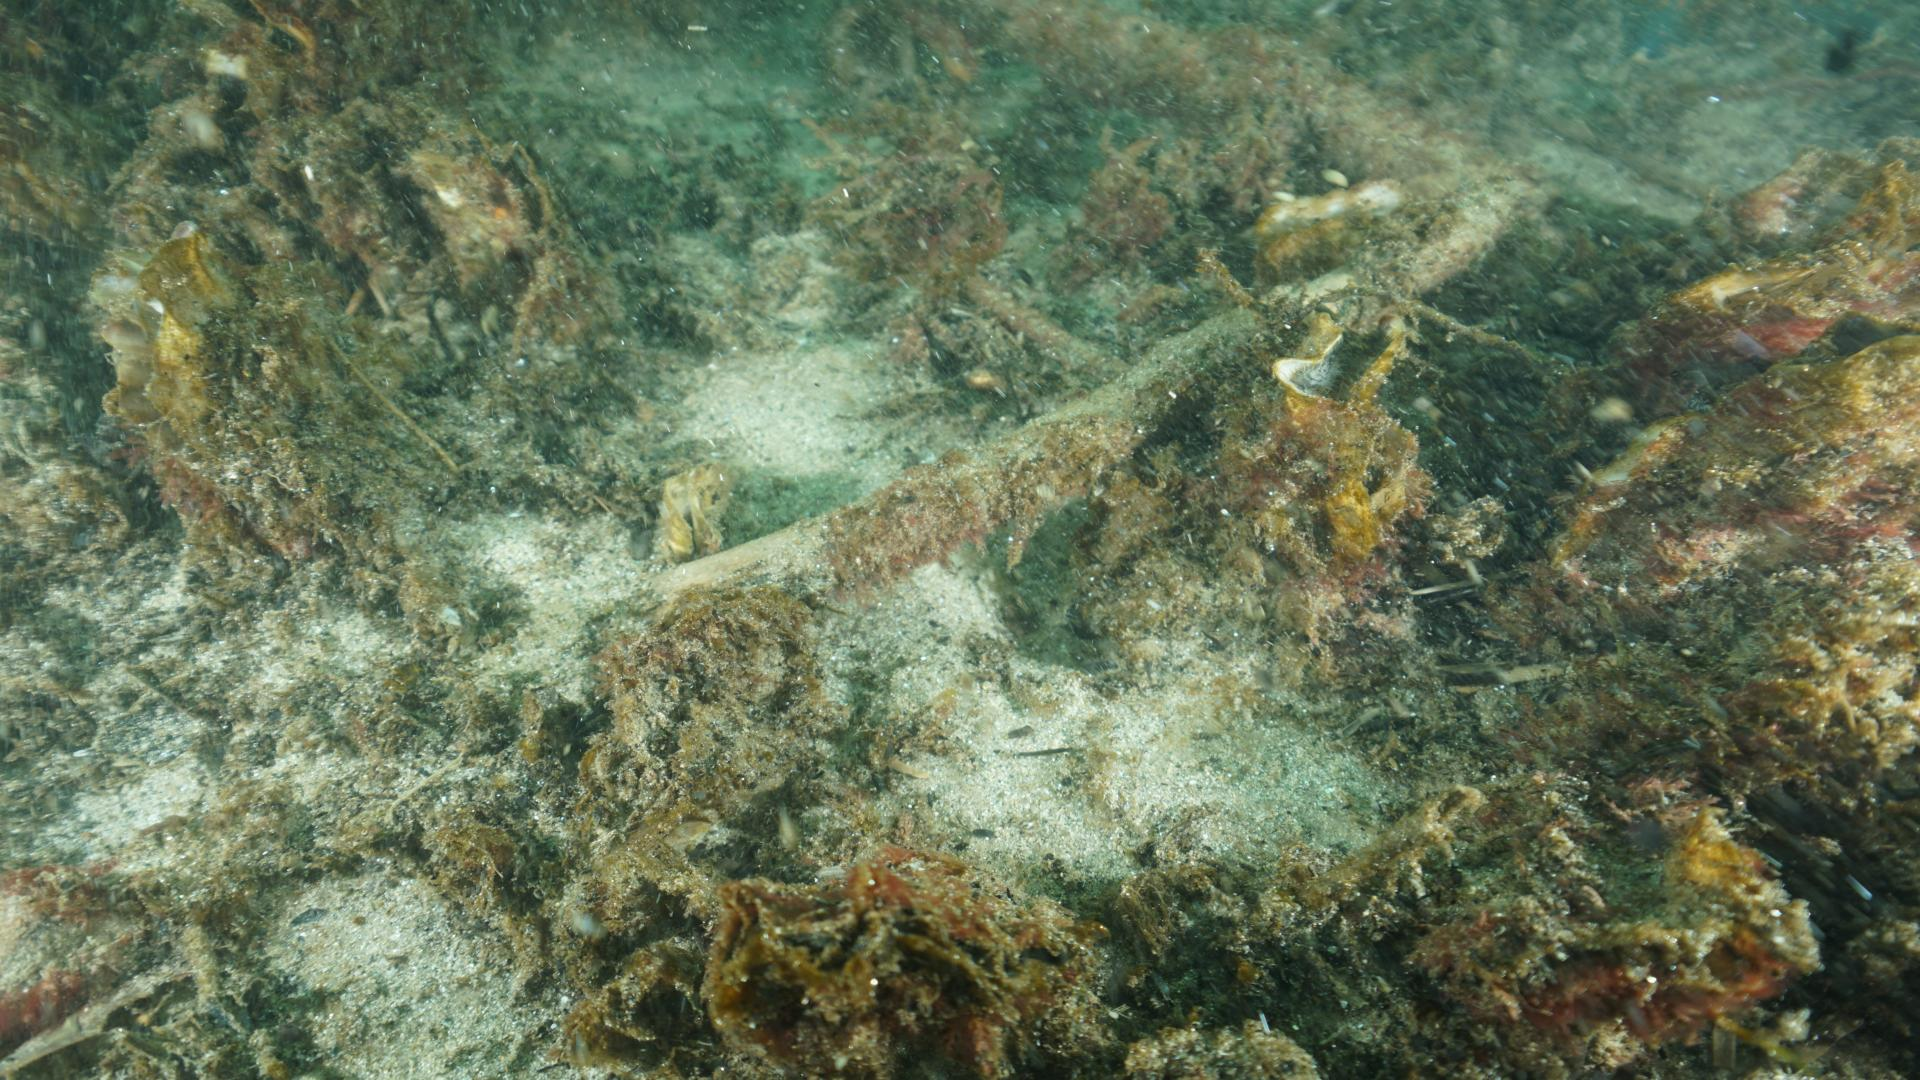rope: (654, 0, 1518, 629)
